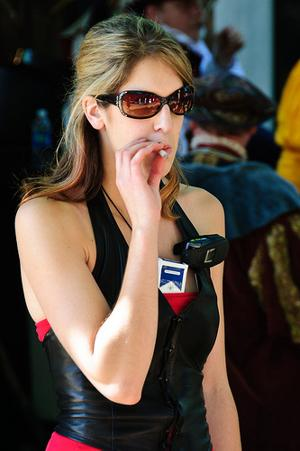person: (14, 14, 244, 451)
